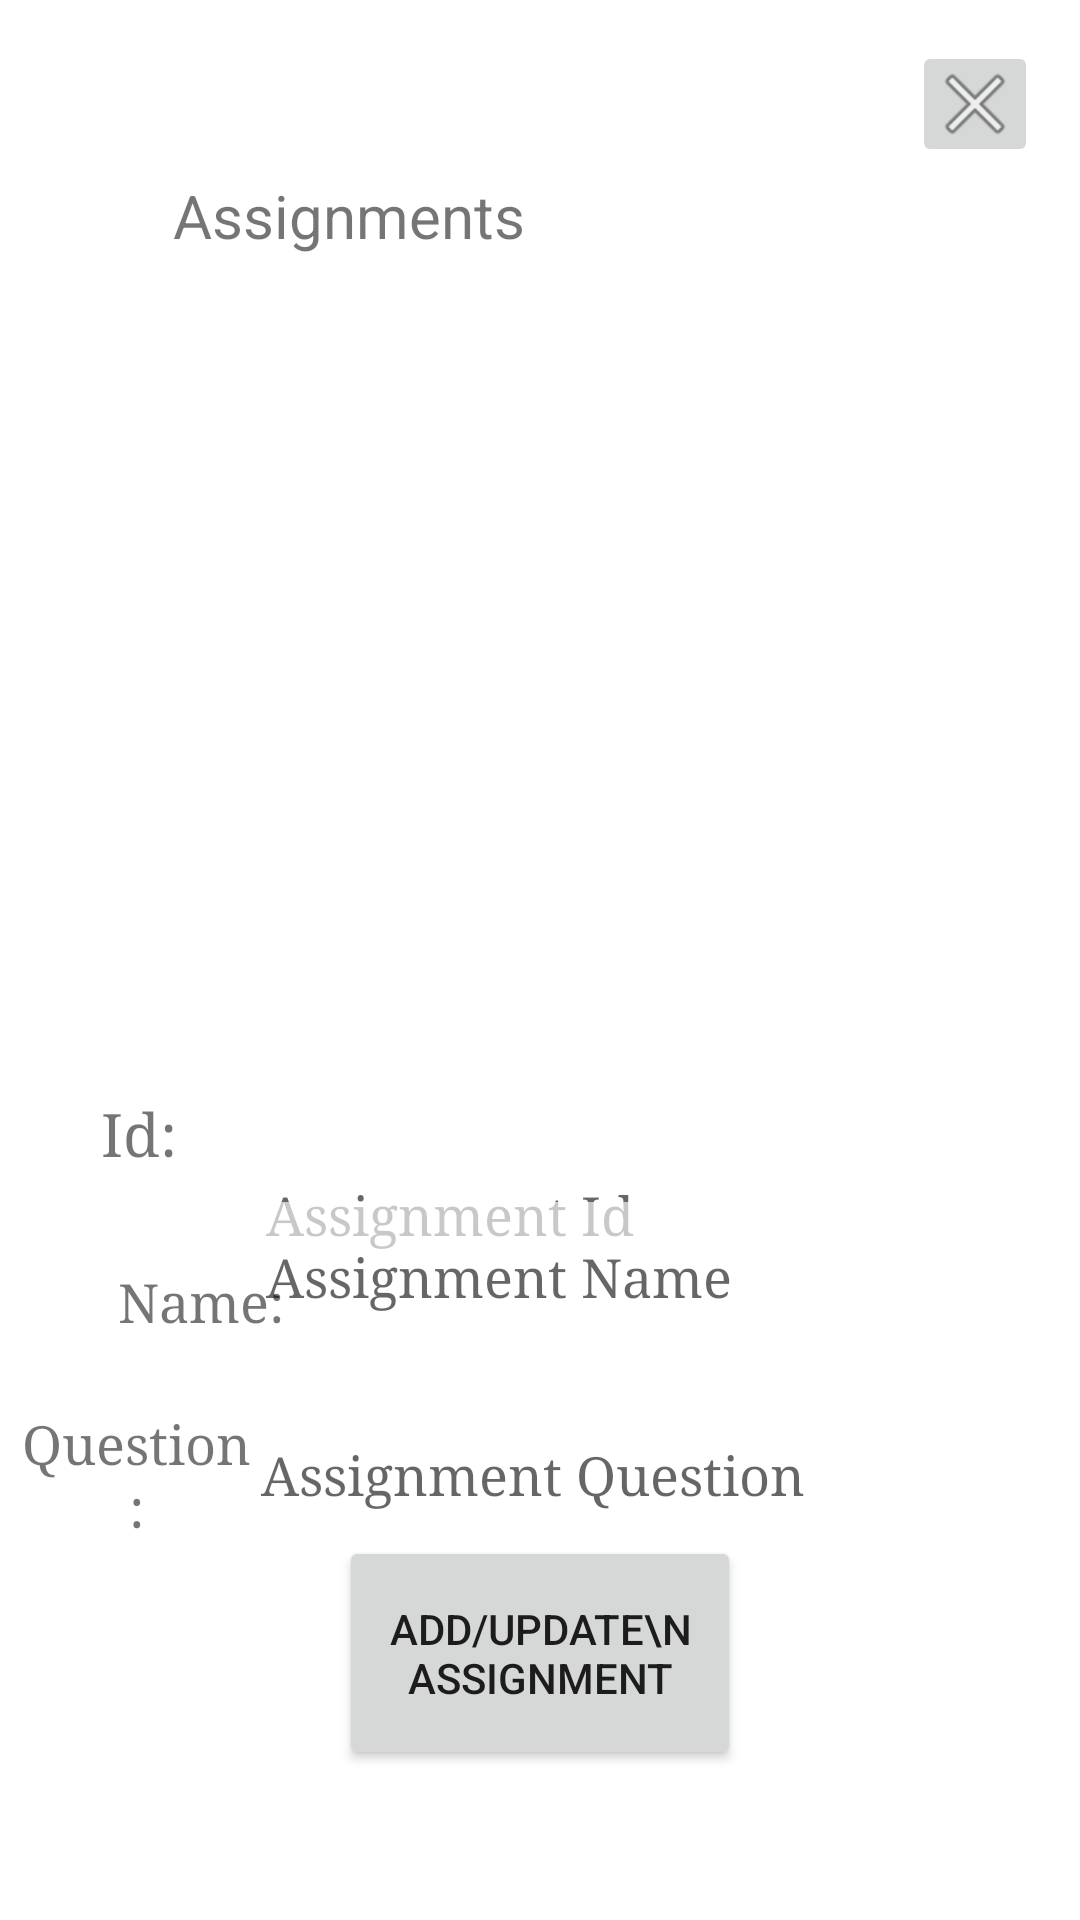

Icon bounding boxes for this 1080 x 1920 phone screenshot, format (x1, y1, x2, y2):
close clear cancel: (924, 59, 1026, 149)
